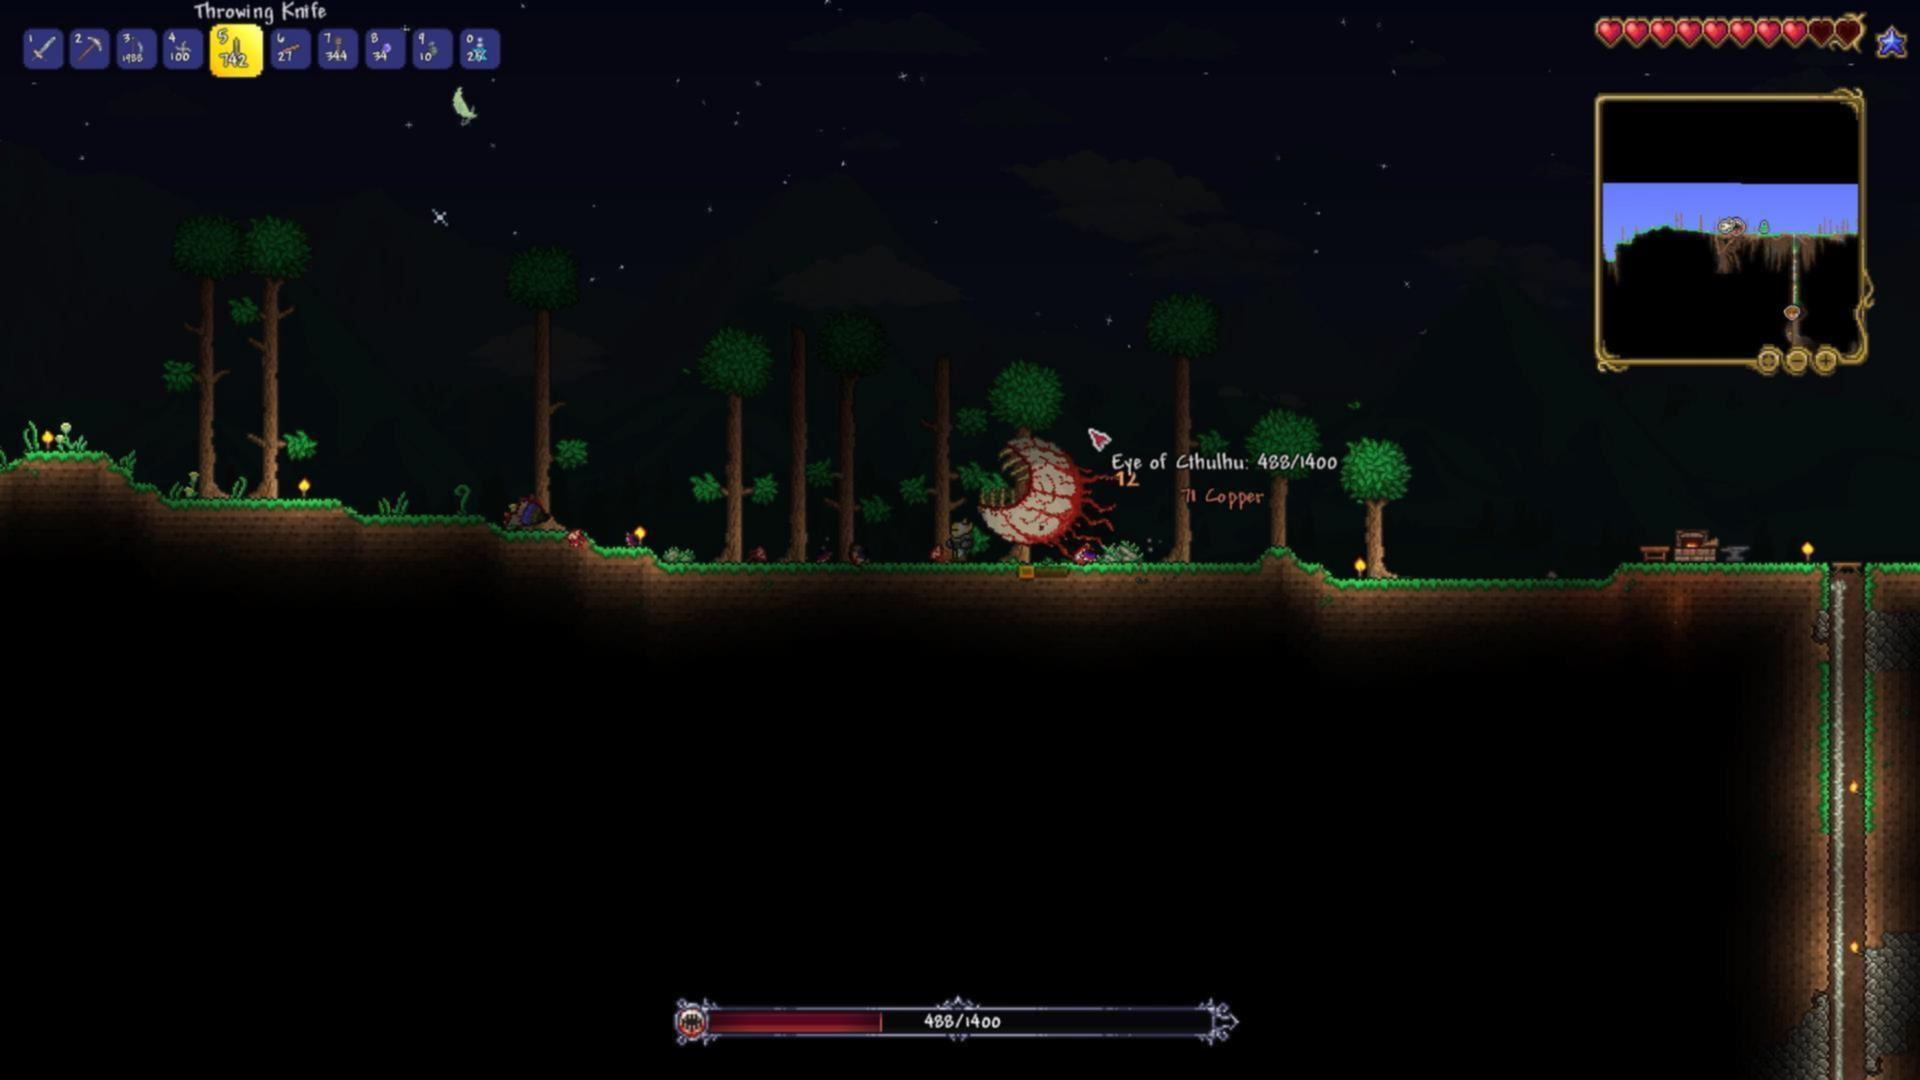anvil: (1716, 541, 1753, 564)
bow: (127, 34, 145, 65)
eyeC: (960, 426, 1127, 572)
furnace: (1669, 521, 1717, 563)
grenade: (426, 37, 438, 58)
knife: (231, 36, 244, 66)
pickaxe: (75, 34, 105, 63)
platform: (277, 40, 305, 55)
recallP: (473, 34, 488, 62)
rope: (331, 32, 348, 62)
shuriken: (174, 40, 190, 57)
sword: (29, 34, 58, 63)
workbench: (1638, 542, 1673, 560)
